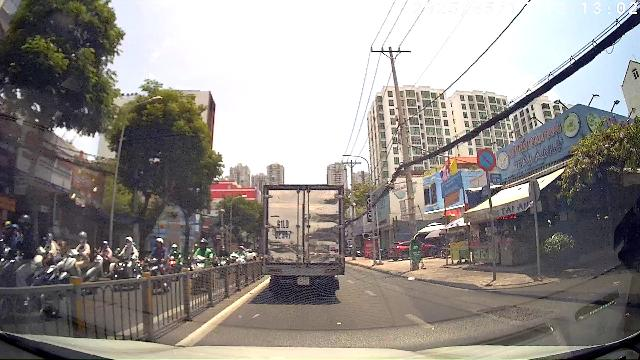131a-cam-do-xe: (476, 148, 496, 172)
